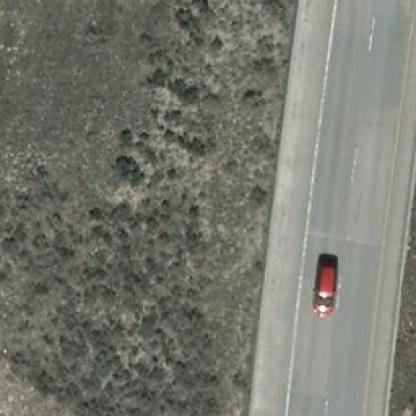car: (309, 263, 338, 314)
